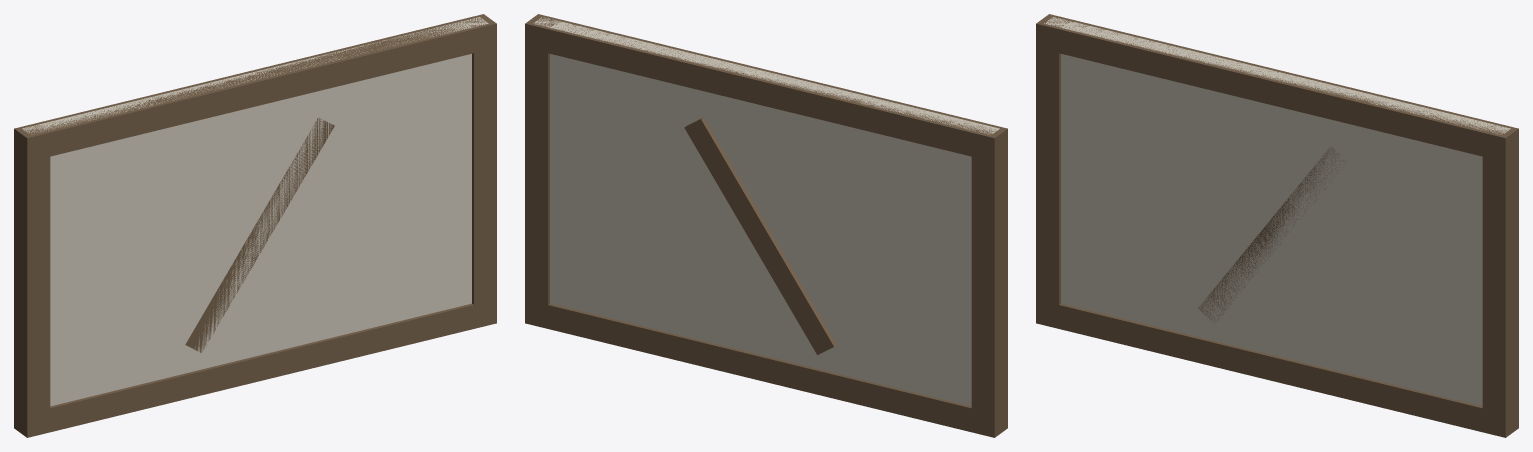
Rendered from timber_wall.glb.
The picture shows the model from 3 angles, left to right: view 1: azimuth 30°, elevation 25°; view 2: azimuth 150°, elevation 25°; view 3: azimuth 330°, elevation 25°; orthographic projection.
Parts seen in each view (by area): view 1: timber_wall; view 2: timber_wall; view 3: timber_wall.
Boxes of the visible parts, x1,y1,x2,y2 form: timber_wall: (14,14,496,437); timber_wall: (525,14,1007,437); timber_wall: (1036,14,1518,437).
Bounding box in the file's own units: 4.1 × 2.5 × 0.21.
